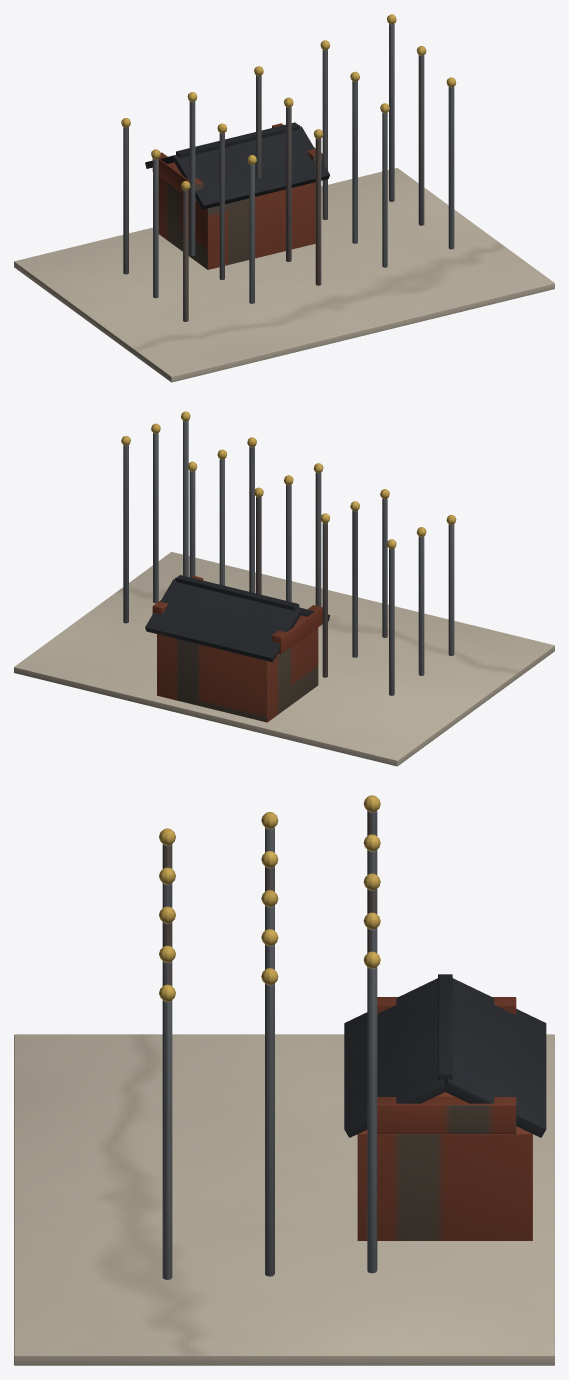
Rendered from building_university_weather_rods.fbx.
The picture shows the model from 3 angles, top to bottom: view 1: azimuth 30°, elevation 25°; view 2: azimuth 150°, elevation 25°; view 3: azimuth 270°, elevation 25°; orthographic projection. The views are drawn at different scales.
Parts seen in each view (by area): view 1: building_university_weather_rods; view 2: building_university_weather_rods; view 3: building_university_weather_rods.
Boxes of the visible parts, x1,y1,x2,y2 form: building_university_weather_rods: (14,14,554,382); building_university_weather_rods: (14,411,554,766); building_university_weather_rods: (14,795,554,1365).
Size of the model in its own units: 10.4 by 5.52 by 7.4.
